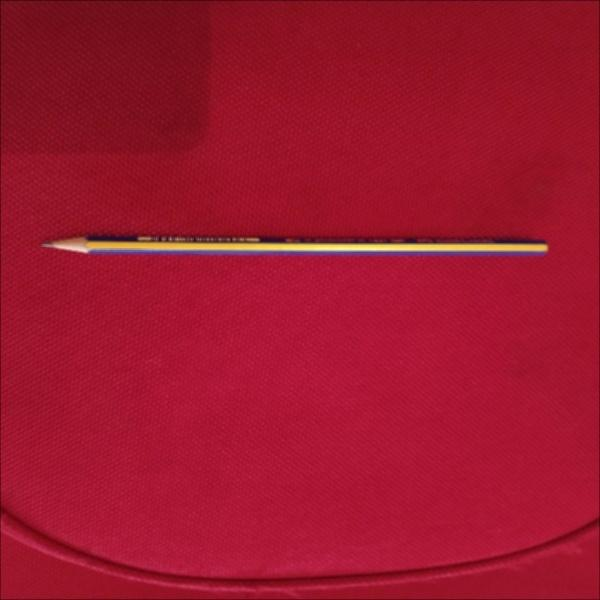pencil: (39, 229, 554, 263)
